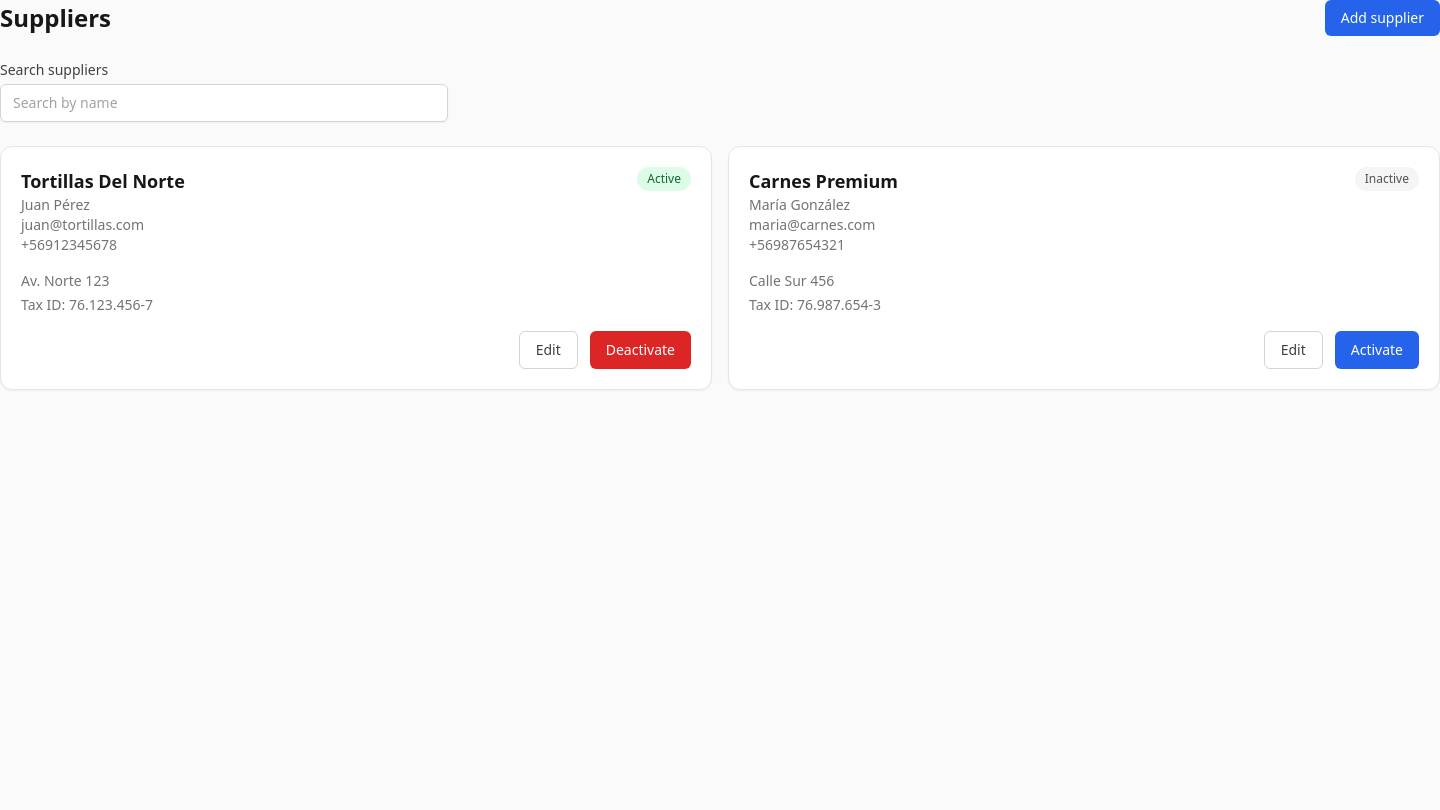
SuppliersPage › creates a supplier and closes the modal
Check: the heading "Suppliers" is shown, box [0,2,111,34]
Click the button "Add supplier".
click(1382, 18)  # box [1325,0,1439,36]
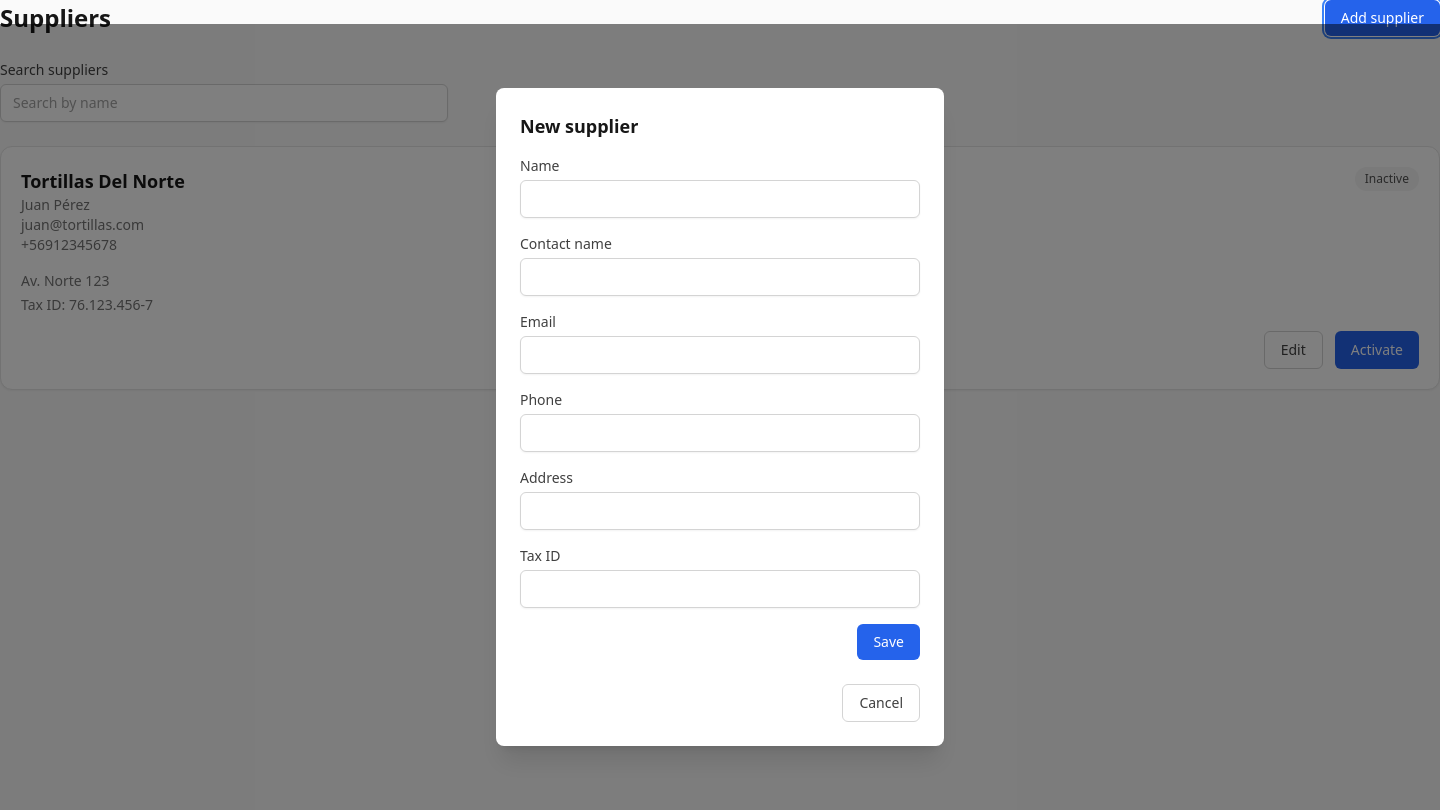
Check: the dialog is shown
Type "New Supplier" into the field labelled "Name".
click(720, 199); type("New Supplier")  # box [520,180,920,218]
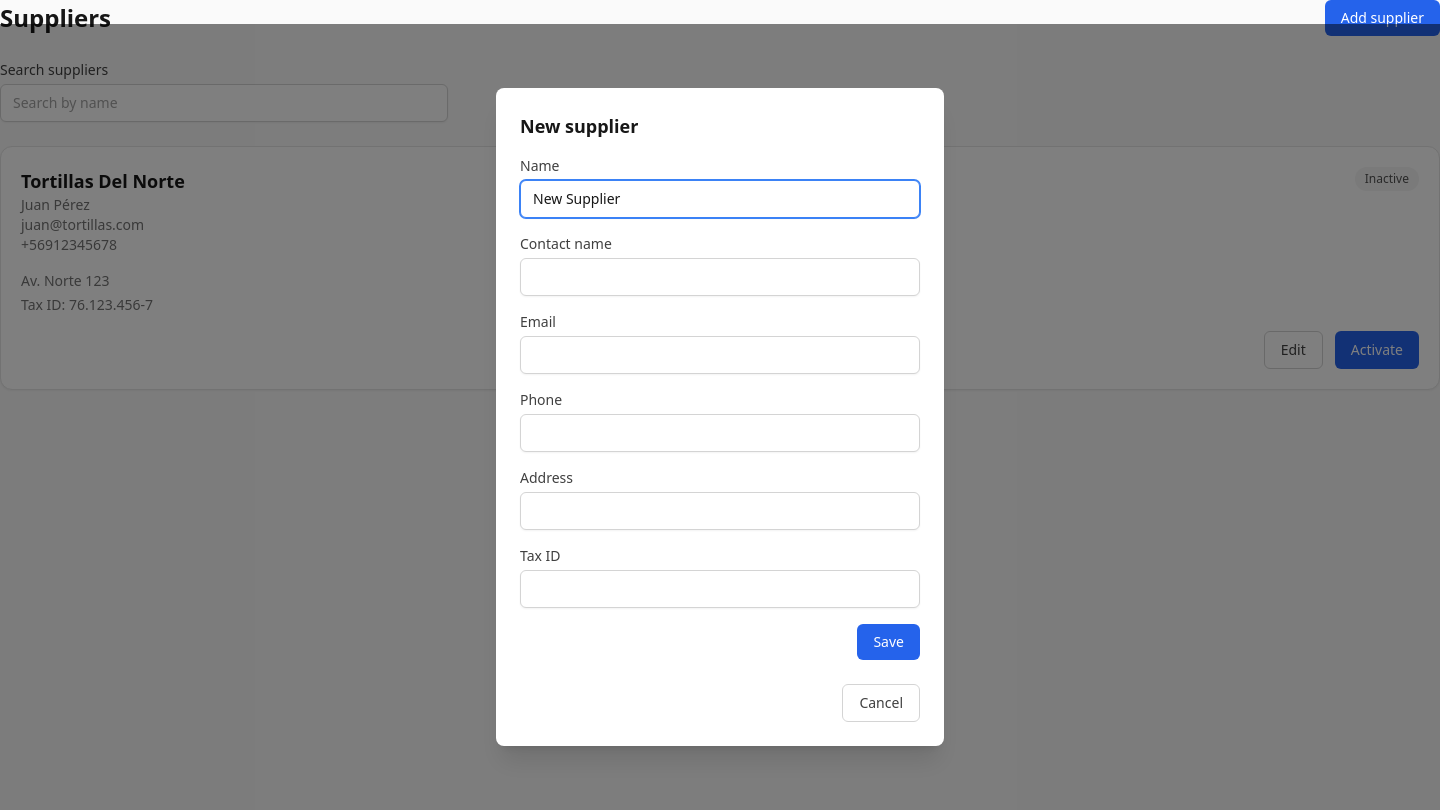
Type "Pedro López" into the field labelled "Contact name".
click(720, 277); type("Pedro López")  # box [520,258,920,296]
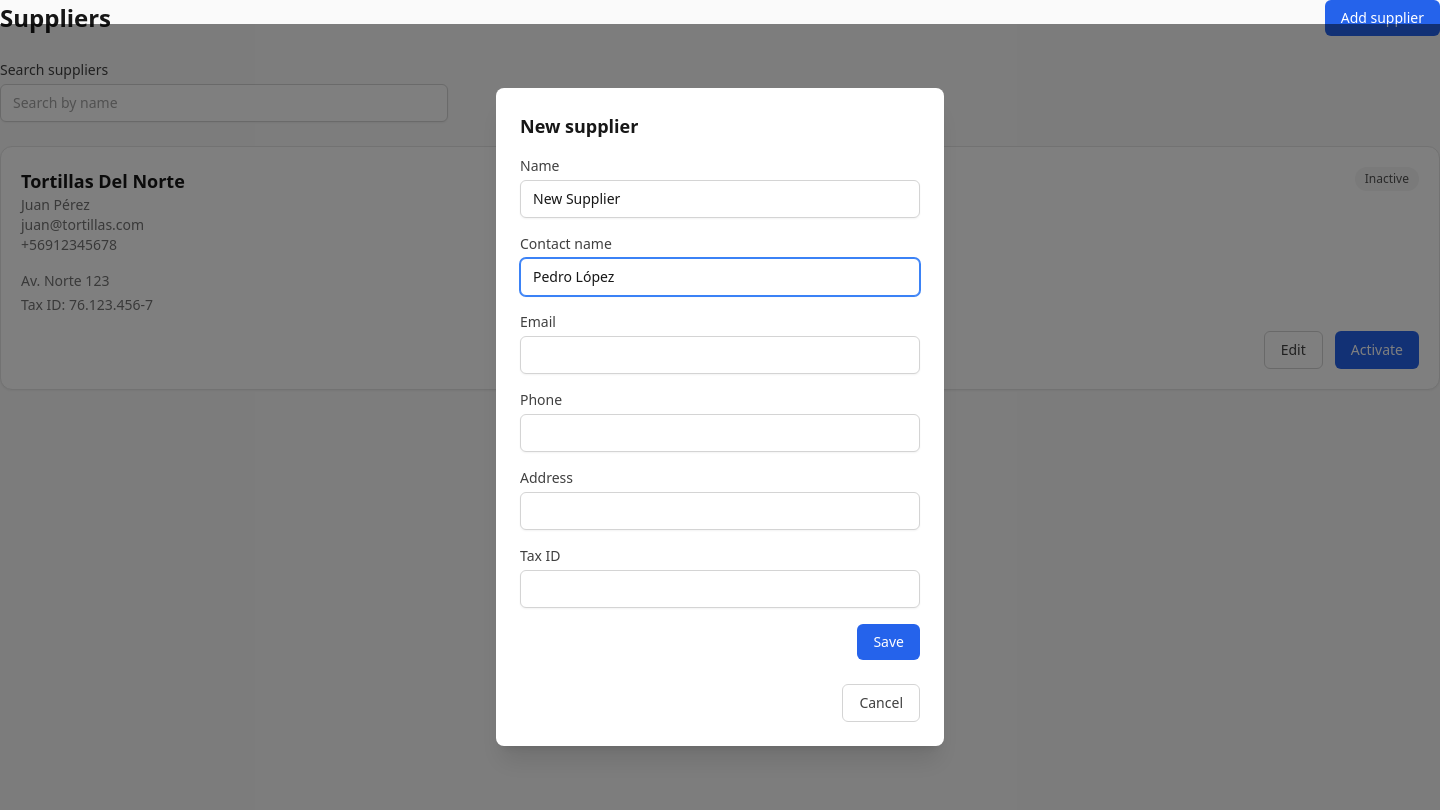
Click the button "Save".
click(889, 642)  # box [857,624,920,660]
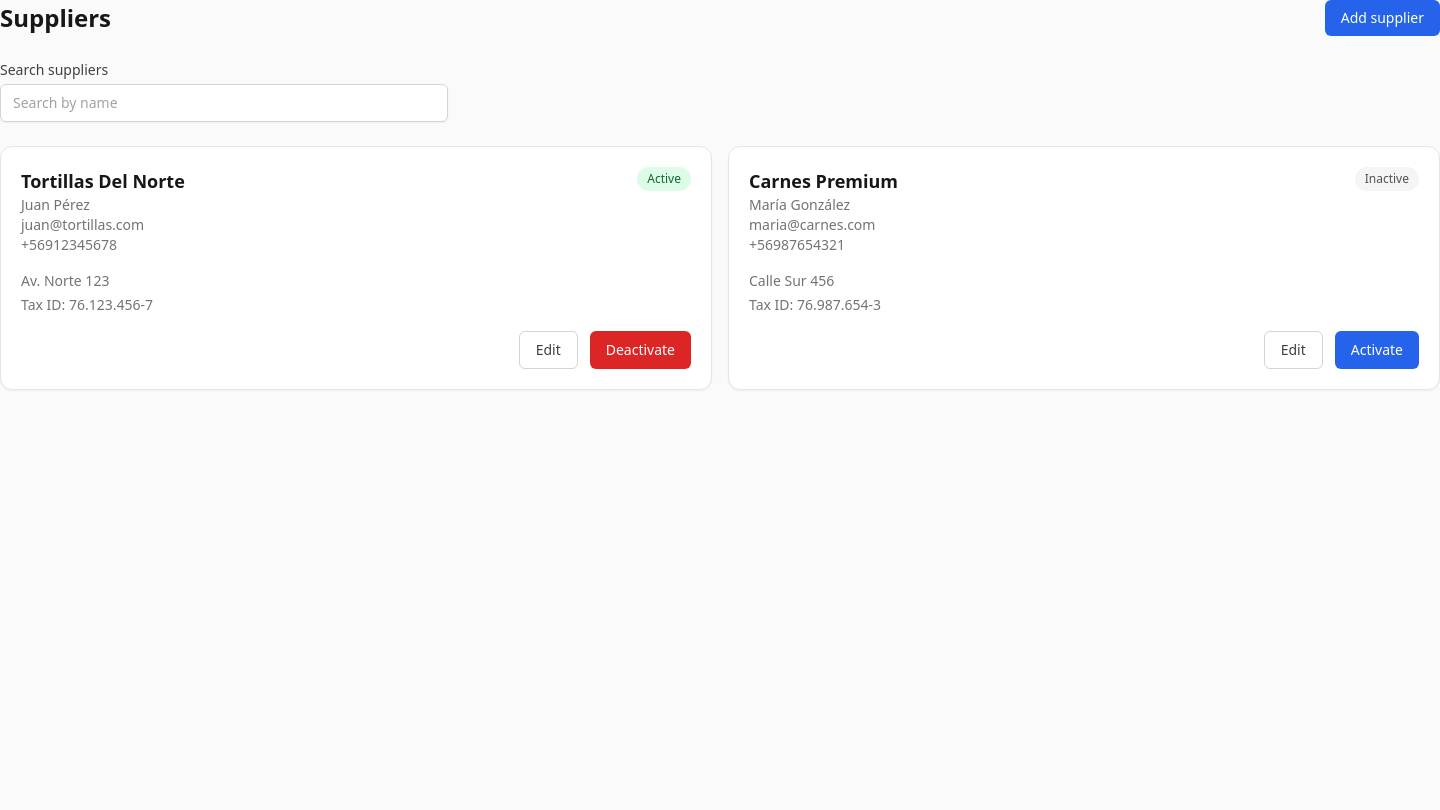
Check: the dialog is gone
